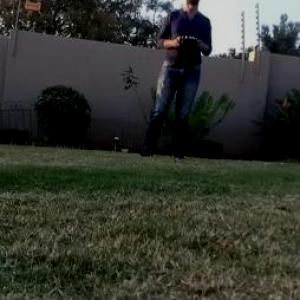follow: (132, 0, 219, 166)
